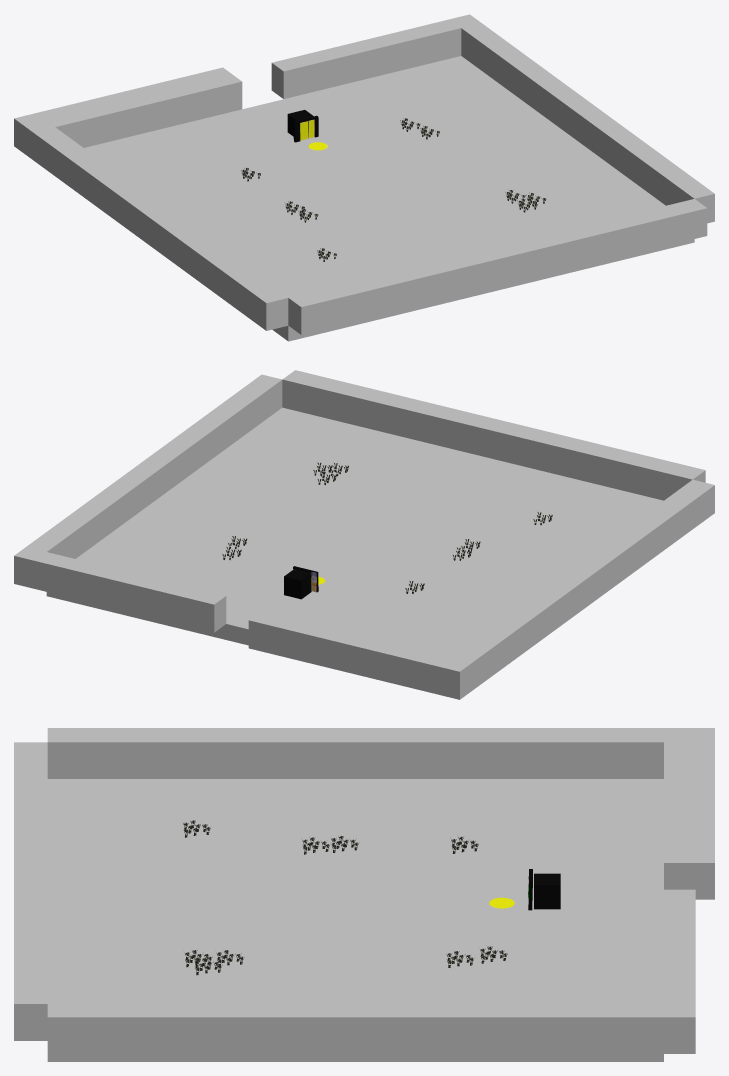
File: Map.fbx
3 renders of one model, top to bottom at view 1: azimuth 30°, elevation 25°; view 2: azimuth 150°, elevation 25°; view 3: azimuth 270°, elevation 25°, orthographic. The views are drawn at different scales.
Parts seen in each view (by area): view 1: Color, Cube.010, Cube.001; view 2: Color, Cube.010, Cube.001; view 3: Color, Cube.010, Cube.001.
Part boxes in pixels (x1,y1,x2,y2): Color: [14, 14, 714, 341]; Cube.010: [241, 118, 546, 261]; Cube.001: [287, 110, 327, 150]; Color: [14, 370, 714, 699]; Cube.010: [222, 462, 552, 593]; Cube.001: [284, 566, 325, 599]; Color: [14, 728, 714, 1061]; Cube.010: [183, 820, 507, 975]; Cube.001: [489, 869, 560, 910].
Bounding box in the file's own units: 11940 × 1113 × 12230.
